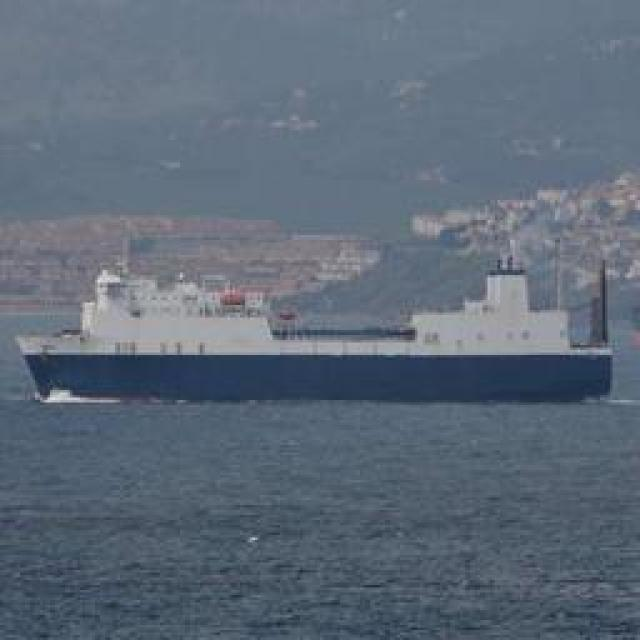CIV_Ship: (18, 230, 610, 400)
